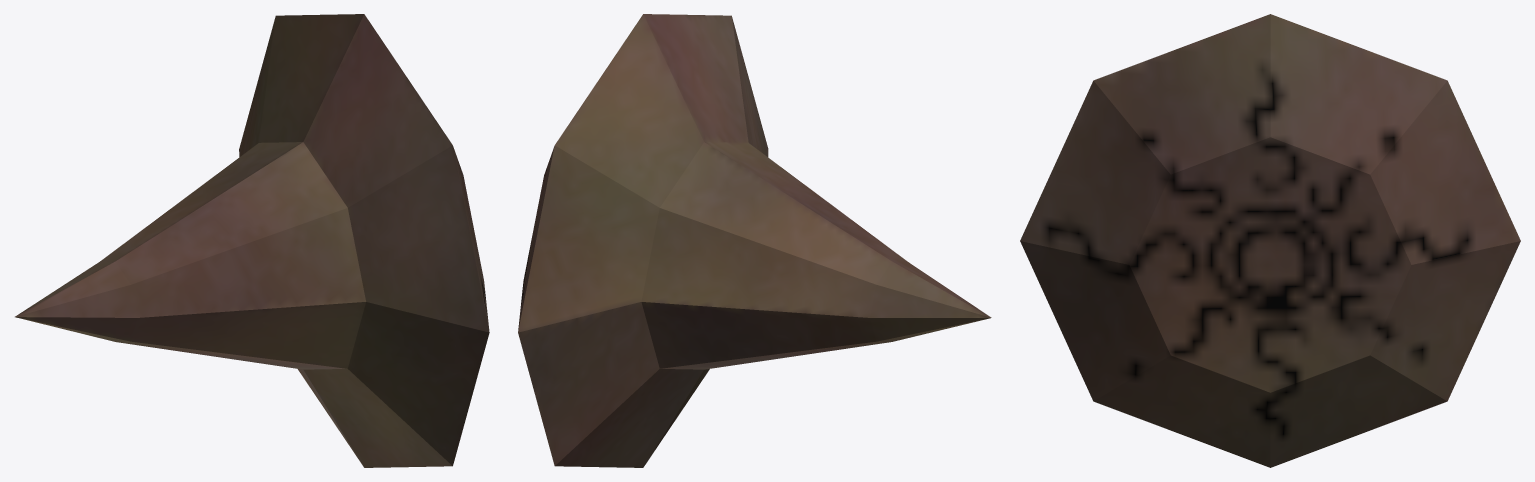
The model's file is 0.fbx_ItemKeydial1.fbx.
3 views of the same model, side by side, from view 1: azimuth 30°, elevation 25°; view 2: azimuth 150°, elevation 25°; view 3: azimuth 270°, elevation 25° (orthographic).
Parts seen in each view (by area): view 1: ItemKeydial1; view 2: ItemKeydial1; view 3: ItemKeydial1.
Boxes of the visible parts, left/top/right/bottom form: ItemKeydial1: left=15, top=14, right=489, bottom=467; ItemKeydial1: left=518, top=14, right=991, bottom=467; ItemKeydial1: left=1020, top=14, right=1520, bottom=467.
Size of the model in its own units: 22.27 by 24.24 by 24.24.
